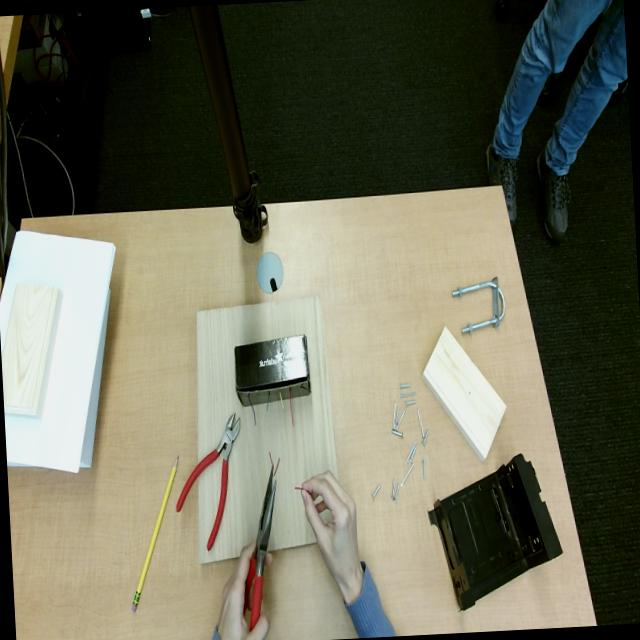pliers: (176, 415, 241, 551), (244, 465, 276, 631)
